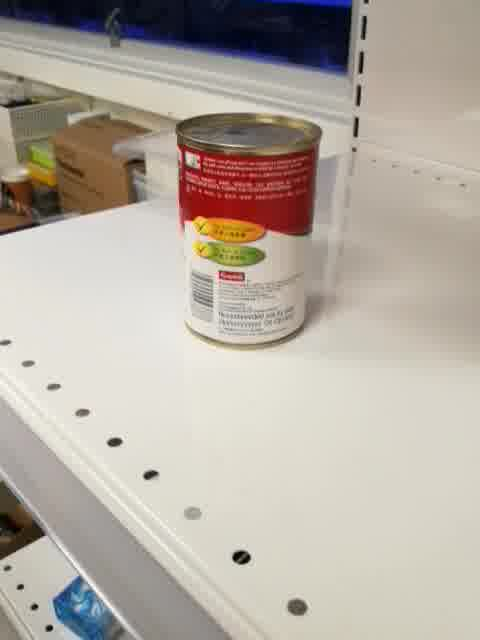tomatosoup: (173, 110, 324, 352)
